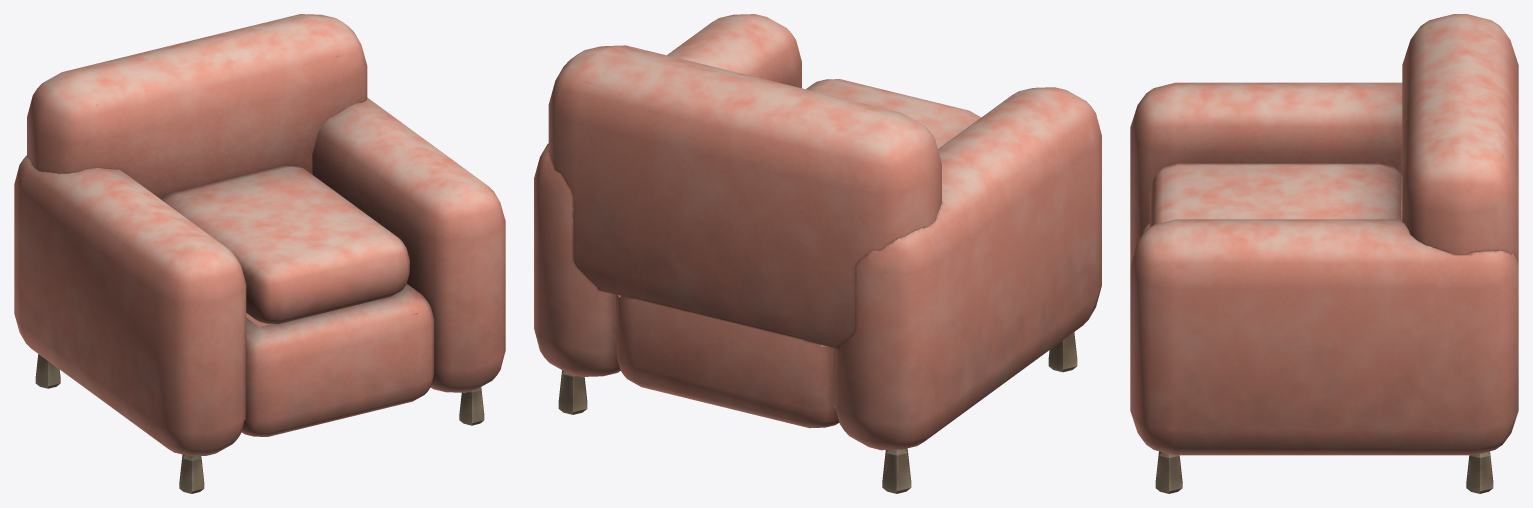
The model's file is armchair.fbx.
3 views of the same model, side by side, from view 1: azimuth 30°, elevation 25°; view 2: azimuth 150°, elevation 25°; view 3: azimuth 270°, elevation 25° (orthographic). The views are drawn at different scales.
Visible parts, largest first — view 1: Body; view 2: Body; view 3: Body.
Part boxes in pixels (left/top/right/bottom): Body: left=14, top=14, right=505, bottom=493; Body: left=534, top=14, right=1101, bottom=493; Body: left=1130, top=14, right=1518, bottom=493.
Size of the model in its own units: 3.3 by 2.85 by 3.
Materials: 1 (1 with a texture image).
